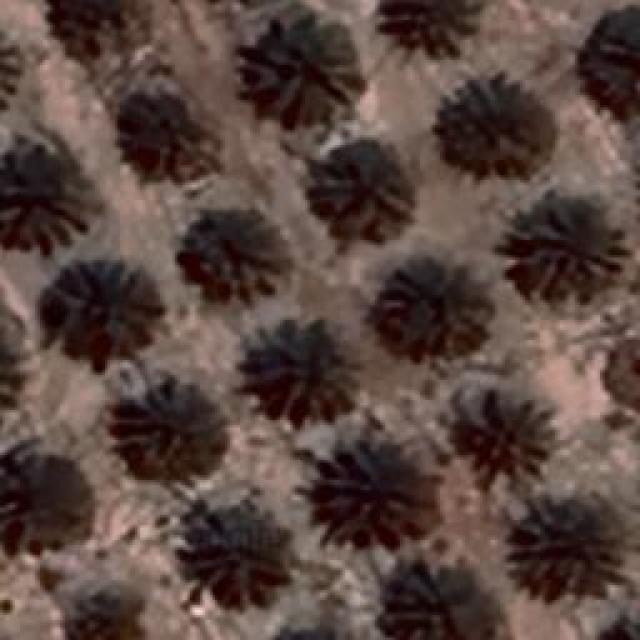PalmTree: (235, 15, 363, 125), (180, 495, 290, 605), (309, 448, 429, 544), (508, 195, 628, 290), (515, 486, 620, 594), (172, 201, 280, 299), (42, 264, 158, 354), (376, 272, 489, 360), (246, 328, 352, 416), (121, 392, 229, 478), (312, 142, 408, 236), (450, 85, 548, 175), (386, 560, 494, 640), (0, 146, 90, 242), (110, 100, 215, 178), (459, 381, 549, 471), (8, 450, 86, 545), (378, 0, 480, 60), (44, 0, 146, 58), (582, 13, 640, 112), (54, 586, 158, 640), (0, 24, 26, 117), (0, 319, 26, 412), (590, 604, 640, 640)
